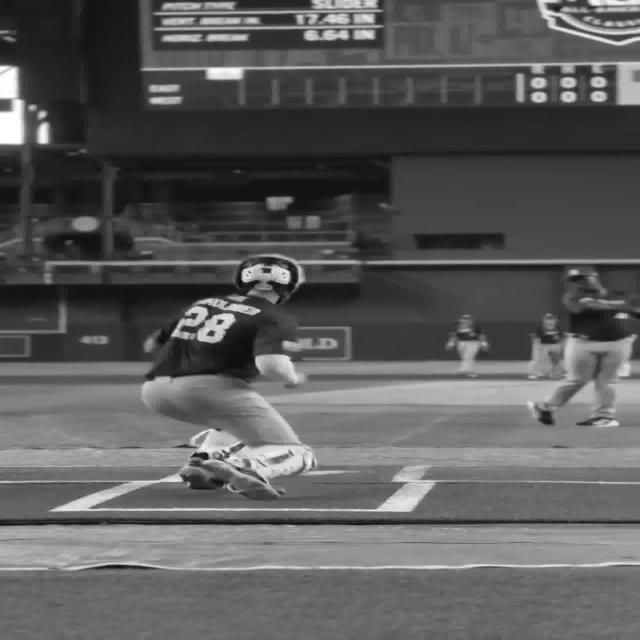shoe: (178, 442, 243, 489), (221, 458, 285, 499), (526, 400, 554, 425), (575, 417, 619, 427)
